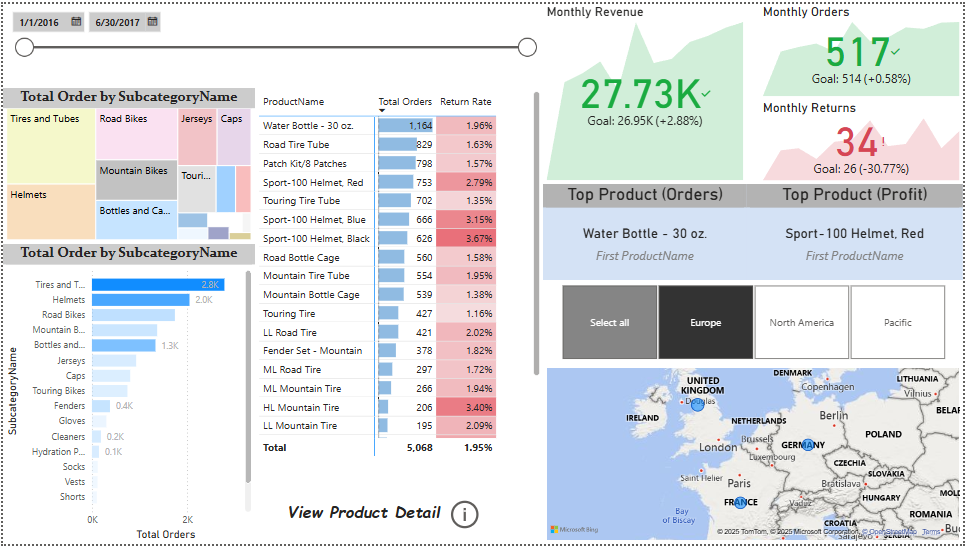

The dashboard page shown, as its layout file describes it:
{"tool":"powerbi","page":{"name":"Exec Summary","canvas":[1280,720],"ordinal":0},"visuals":[{"type":"barChart","title":"Total Order by SubcategoryName","fields":{"Y":["AW_Sales_2015-2017.Total Orders"],"Category":["AW_Product_Subcategories.SubcategoryName"]},"box":[0,320,336,400],"z":1000},{"type":"treemap","title":"Total Order by SubcategoryName","fields":{"Group":["AW_Product_Categories.CategoryName","AW_Product_Subcategories.SubcategoryName"],"Values":["AW_Sales_2015-2017.Total Orders"]},"box":[0,112,336,208],"z":2000},{"type":"pivotTable","fields":{"Values":["AW_Sales_2015-2017.Total Orders","AW_Returns.Return Rate"],"Rows":["AW_Product_Categories.CategoryName","AW_Product_Subcategories.SubcategoryName","AW_Products.ProductName"]},"box":[336,112,384,496],"z":3000},{"type":"slicer","fields":{"Values":["AW_Calendar.Date"]},"box":[0,0,720,112],"z":4000},{"type":"kpi","title":"Monthly Revenue","fields":{"Indicator":["AW_Sales_2015-2017.Total_Revenue"],"TrendLine":["AW_Calendar.Start of Month"],"Goal":["AW_Sales_2015-2017.Prev Month Revenue"]},"box":[720,0,272,240],"z":5000},{"type":"kpi","title":"Monthly Orders","fields":{"TrendLine":["AW_Calendar.Start of Month"],"Indicator":["AW_Sales_2015-2017.Total Orders"],"Goal":["AW_Sales_2015-2017.Prev Month orders"]},"box":[1008,0,272,128],"z":6000},{"type":"kpi","title":"Monthly Returns","fields":{"TrendLine":["AW_Calendar.Start of Month"],"Goal":["AW_Returns.Prev Month Returns"],"Indicator":["AW_Returns.Total Returns"]},"box":[1008,128,272,112],"z":7000},{"type":"card","title":"Top Product (Orders)","fields":{"Values":["Min(AW_Products.ProductName)"]},"box":[720,240,272,128],"z":8000},{"type":"card","title":"Top Product (Profit)","fields":{"Values":["Min(AW_Products.ProductName)"]},"box":[992,240,288,128],"z":9000},{"type":"map","fields":{"Category":["AW_Territories.Country"],"Size":["AW_Sales_2015-2017.Total Orders"]},"box":[720,480,560,240],"z":10000},{"type":"slicer","fields":{"Values":["AW_Territories.Continent"]},"box":[720,368,560,112],"z":11000},{"type":"textbox","box":[336,656,288,48],"z":12000},{"type":"actionButton","box":[592,656,48,48],"z":13000}]}

Visuals, with their boxes in screenshot pixels (x1, y1, x2, y2), scaled from the page's 1280x720 canvas onto the 968x548 screenshot:
"Total Order by SubcategoryName" barChart: [0, 244, 254, 547]
"Total Order by SubcategoryName" treemap: [0, 85, 254, 244]
pivotTable - AW_Sales_2015-2017.Total Orders x AW_Returns.Return Rate: [254, 85, 544, 463]
slicer - AW_Calendar.Date: [0, 0, 544, 85]
"Monthly Revenue" kpi: [544, 0, 750, 183]
"Monthly Orders" kpi: [762, 0, 967, 97]
"Monthly Returns" kpi: [762, 97, 967, 183]
"Top Product (Orders)" card: [544, 183, 750, 280]
"Top Product (Profit)" card: [750, 183, 967, 280]
map - AW_Territories.Country x AW_Sales_2015-2017.Total Orders: [544, 365, 967, 547]
slicer - AW_Territories.Continent: [544, 280, 967, 365]
textbox: [254, 499, 472, 536]
actionButton: [448, 499, 484, 536]
